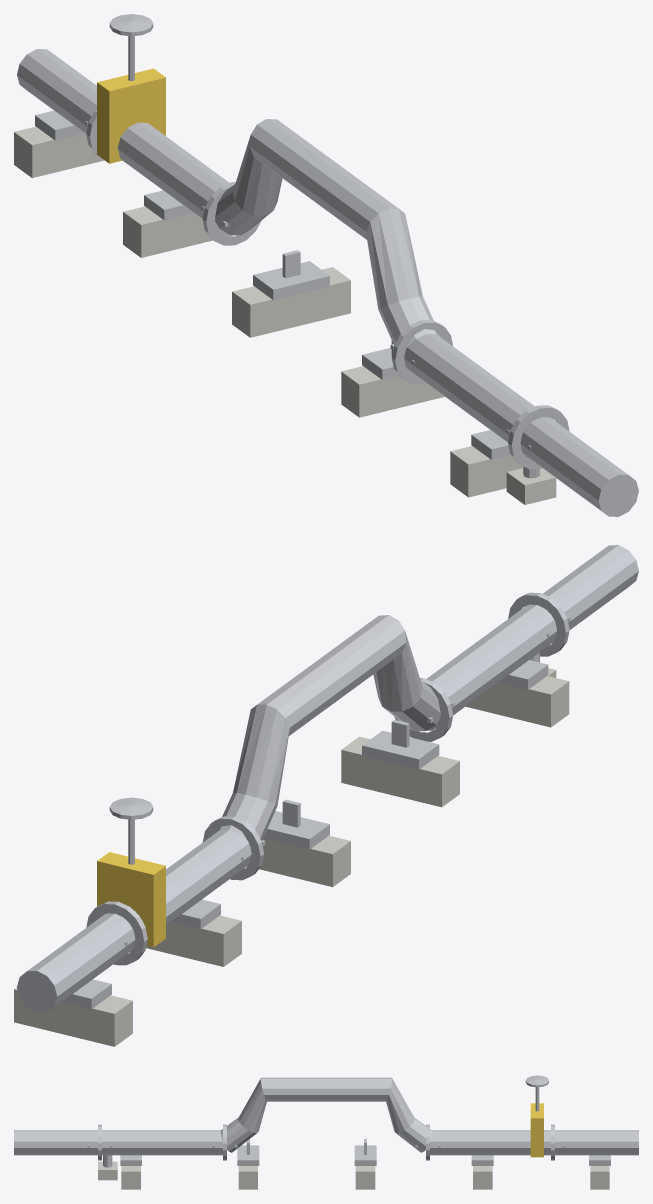
File: ore-processing-and-haulage-plant-slurry-pipeline-modul-0c7f76d6.glb
The picture shows the model from 3 angles, top to bottom: view 1: azimuth 30°, elevation 25°; view 2: azimuth 150°, elevation 25°; view 3: azimuth 270°, elevation 25°; orthographic projection. The views are drawn at different scales.
Parts seen in each view (by area): view 1: slurry-pipeline-module; view 2: slurry-pipeline-module; view 3: slurry-pipeline-module.
Boxes of the visible parts, <box> form: slurry-pipeline-module: <box>14,14,638,516</box>; slurry-pipeline-module: <box>14,545,638,1046</box>; slurry-pipeline-module: <box>14,1075,638,1189</box>.
Bounding box in the file's own units: 1.6 × 2.76 × 16.
